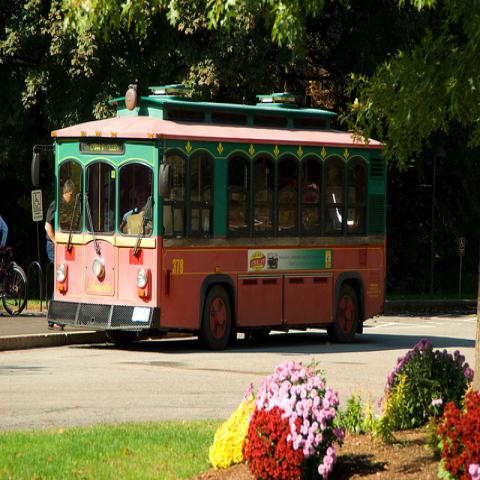bus: (47, 91, 389, 347)
